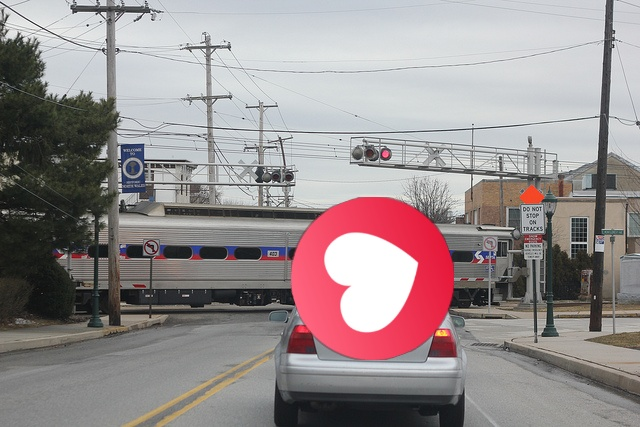love: (291, 197, 454, 360)
